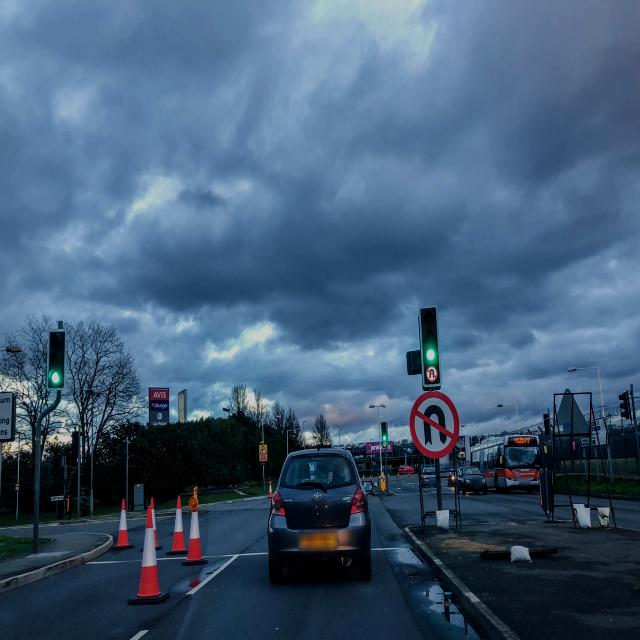car: (267, 444, 373, 584), (453, 464, 488, 496), (447, 469, 459, 487), (398, 464, 413, 476)
